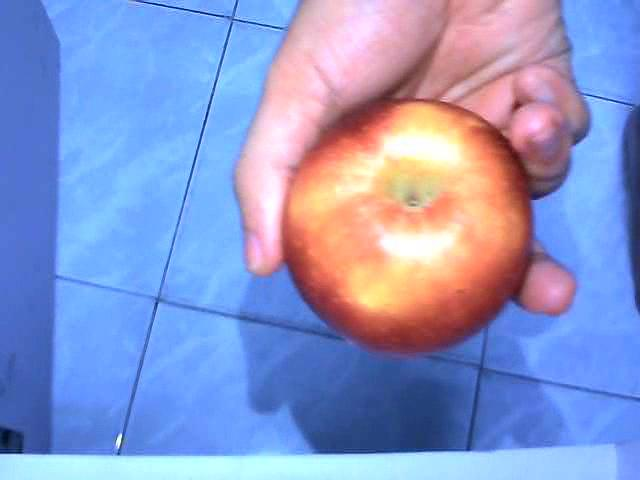apple: (280, 97, 537, 358)
